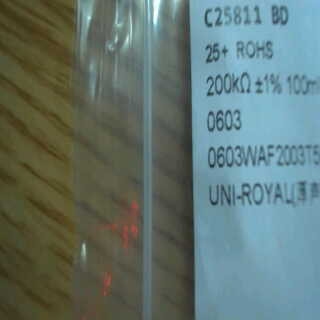200kR: (203, 69, 253, 101)
